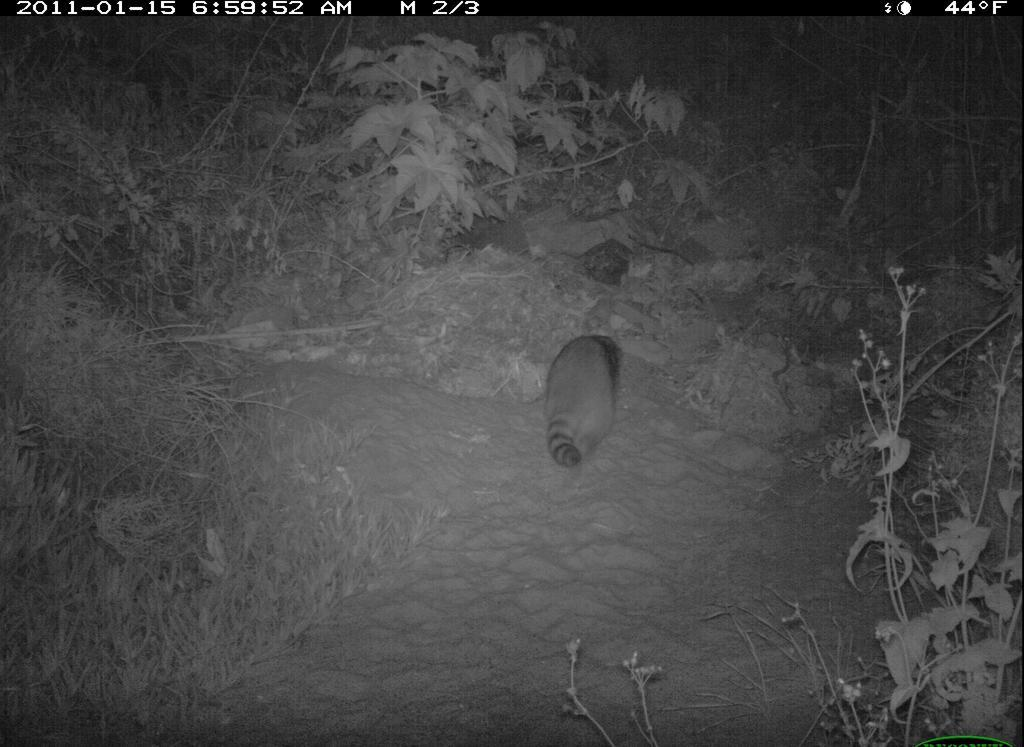raccoon: (537, 333, 641, 475)
